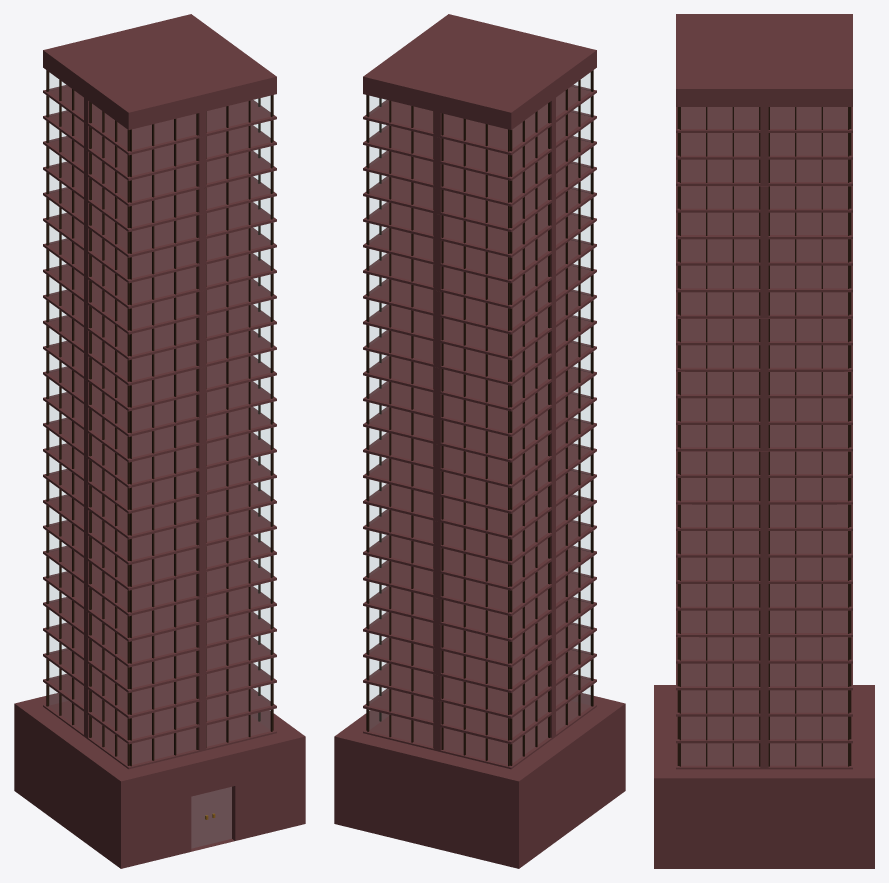
File: skyscraper.fbx
3 renders of one model, left to right at view 1: azimuth 30°, elevation 25°; view 2: azimuth 150°, elevation 25°; view 3: azimuth 270°, elevation 25°, orthographic. The views are drawn at different scales.
Visible parts, largest first — view 1: Cube, Cube.002, Cube.001; view 2: Cube, Cube.002, Cube.001; view 3: Cube, Cube.002, Cube.001.
Part boxes in pixels (bbox=[...]): Cube: bbox=[43, 70, 276, 769]; Cube.002: bbox=[14, 693, 305, 868]; Cube.001: bbox=[43, 14, 276, 129]; Cube: bbox=[363, 70, 596, 769]; Cube.002: bbox=[334, 693, 625, 868]; Cube.001: bbox=[363, 14, 596, 129]; Cube: bbox=[676, 107, 852, 769]; Cube.002: bbox=[654, 685, 874, 868]; Cube.001: bbox=[676, 14, 852, 106].
Size of the model in its own units: 249 by 959 by 249.
